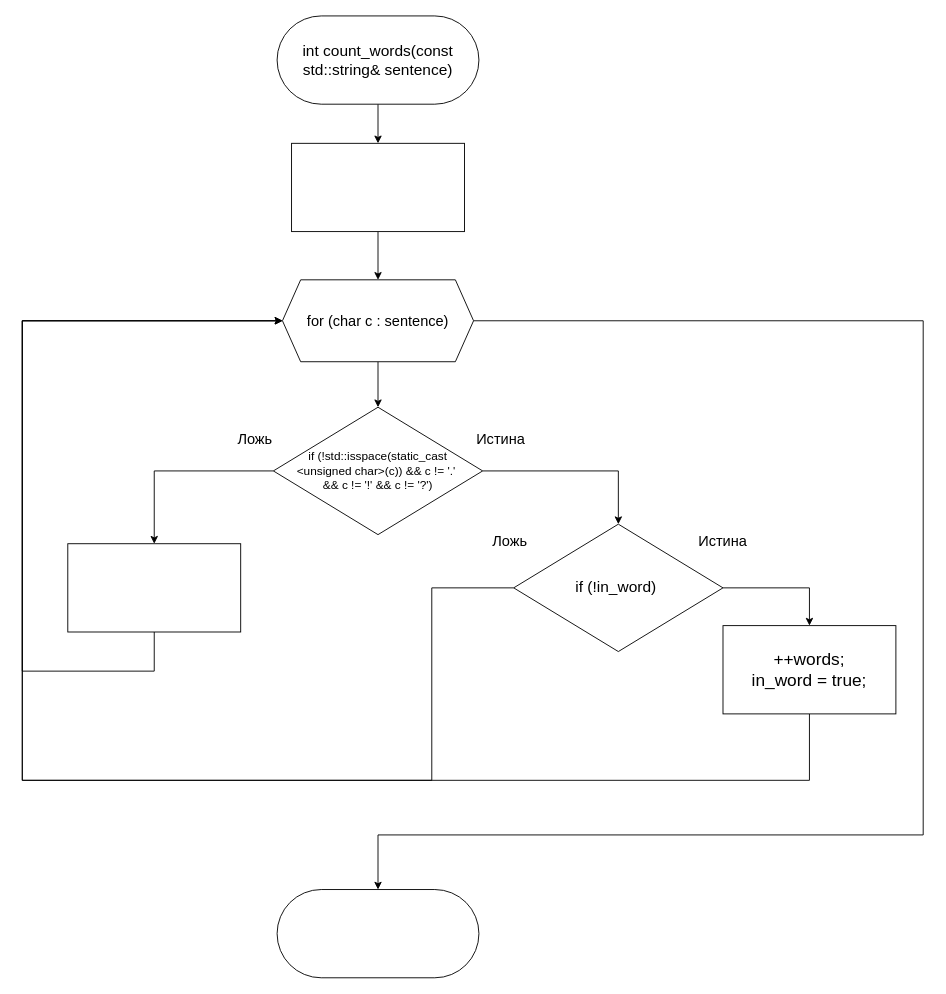
The diagram is 946 pixels wide and 994 high, and some of its shapes have lost their labels. The shapes that lost their labels are listed below. From the top down, each one's centre as x and y in pixels, then its label:
pixel 377 187: int words = 0; bool in_word = false;
pixel 154 587: in_word = false;
pixel 377 933: return words;
